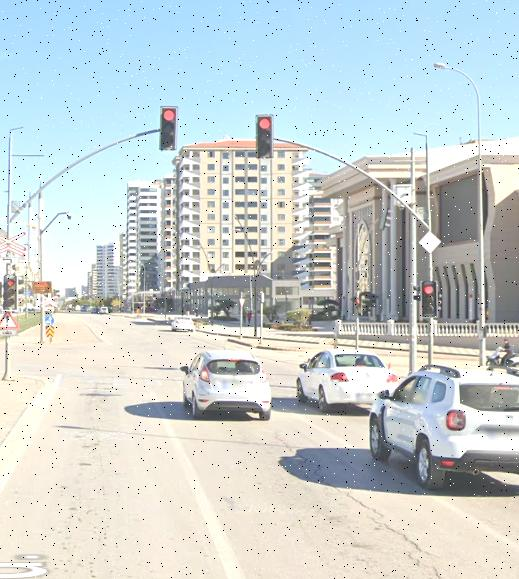redlight: (257, 115, 273, 155), (420, 282, 438, 314), (161, 108, 176, 146), (4, 274, 17, 305)
